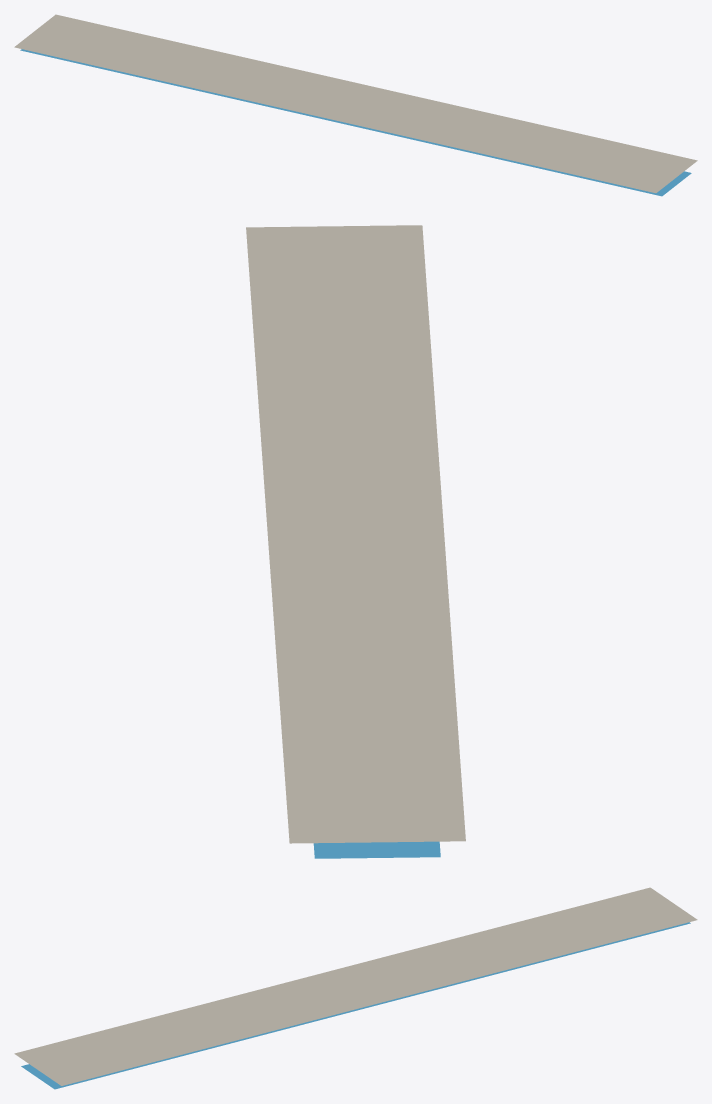
3 renders of one model, top to bottom at view 1: azimuth 30°, elevation 25°; view 2: azimuth 150°, elevation 25°; view 3: azimuth 270°, elevation 25°, orthographic. The views are drawn at different scales.
Parts seen in each view (by area): view 1: estructura_terreno, estructura_agua; view 2: estructura_terreno, estructura_agua; view 3: estructura_terreno, estructura_agua.
Part boxes in pixels (box(x1,y1,x2,y2)): estructura_terreno: box(14, 14, 697, 193); estructura_agua: box(20, 49, 691, 196); estructura_terreno: box(246, 225, 465, 843); estructura_agua: box(313, 841, 440, 858); estructura_terreno: box(14, 887, 697, 1085); estructura_agua: box(21, 922, 690, 1089).
Bounding box in the file's own units: 21.82 × 0.41 × 31.73.
